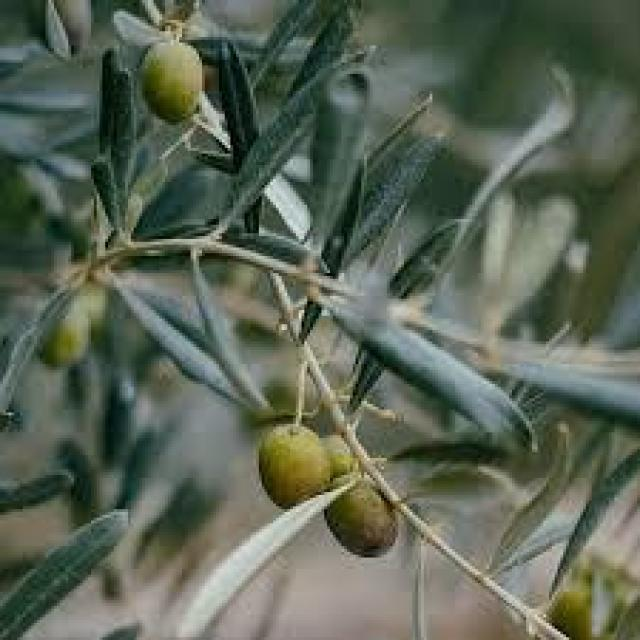Healthy: (259, 424, 333, 508), (325, 477, 395, 558), (141, 40, 201, 122)
